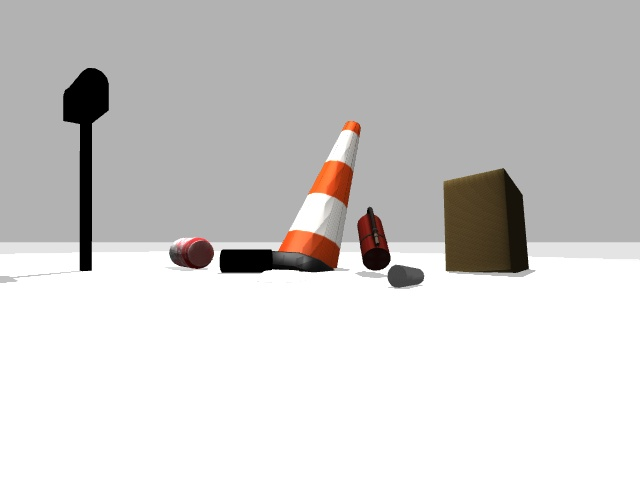boite_lettres: (63, 68, 108, 270)
bouteille_verre: (220, 249, 272, 272)
canette: (169, 237, 213, 268)
carton: (443, 168, 528, 272)
cone_chantier: (274, 121, 360, 273)
extincteur: (357, 207, 390, 270)
gobelet: (388, 265, 423, 287)
